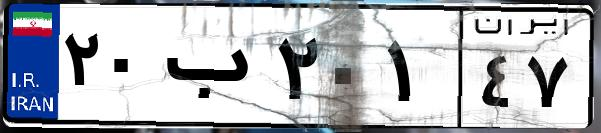0: (330, 28, 385, 110), (110, 28, 158, 98)
1: (385, 28, 445, 110)
2: (270, 28, 330, 110), (57, 26, 110, 100)
4: (475, 38, 525, 113)
7: (525, 38, 570, 115)
ب: (158, 20, 270, 120)
